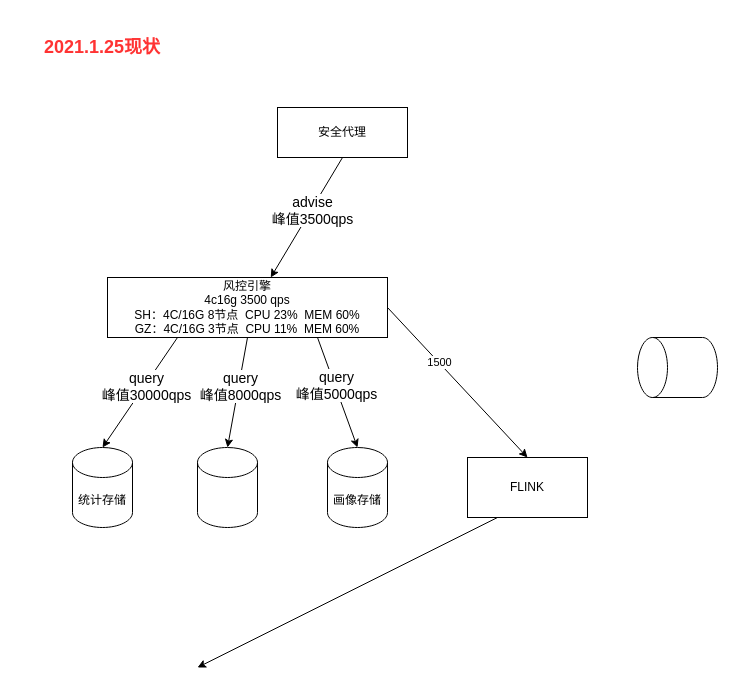
This 735x693 diagram has some shape labels left out. The centre of each missing label's shape, as x and y in pixels:
atta: [677,367]
名单存储: [227,487]
